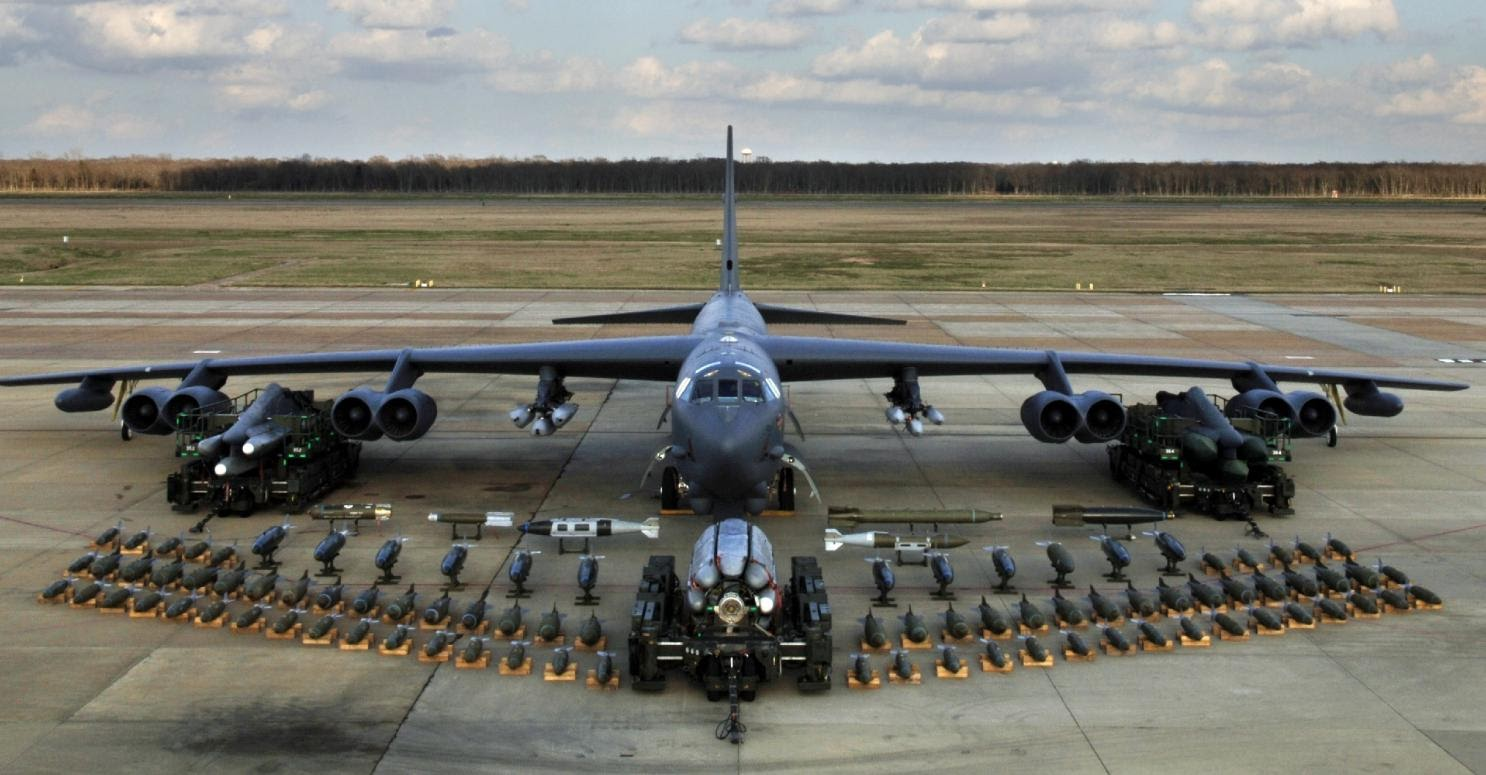B52: (1, 123, 1470, 515)
